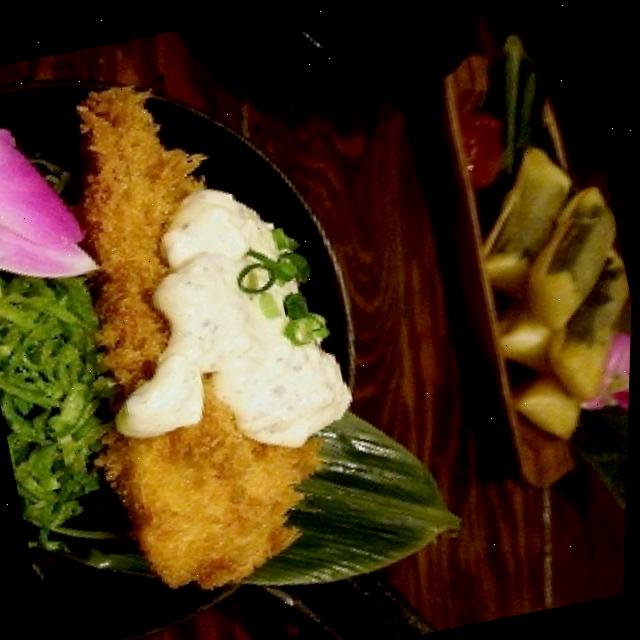炸货点心: (7, 6, 390, 624)
熟制海鲜: (7, 6, 390, 624)
